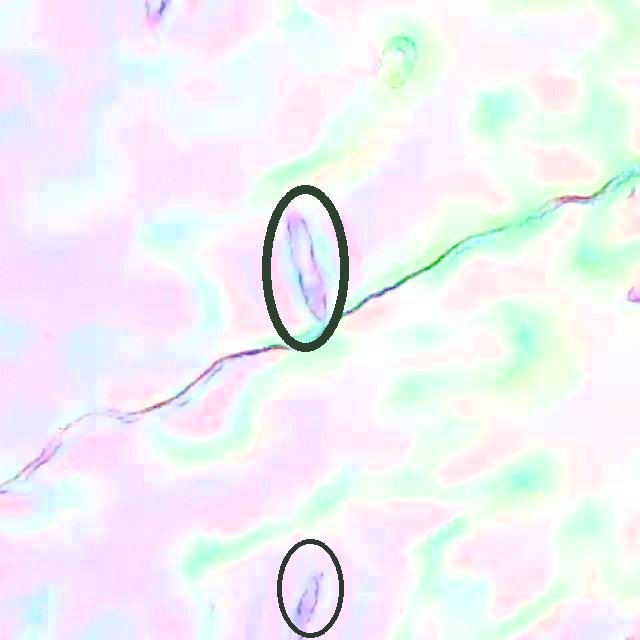open: (262, 184, 348, 353), (277, 538, 344, 638)
